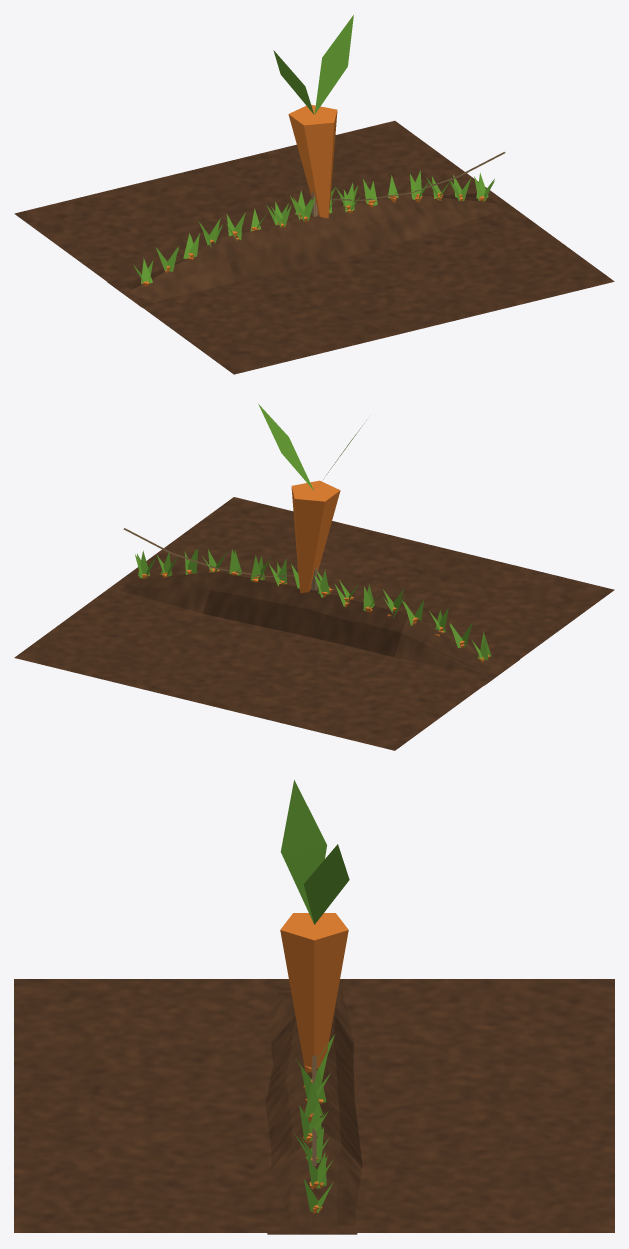
File: garden-kit_LOD1.glb
3 renders of one model, top to bottom at view 1: azimuth 30°, elevation 25°; view 2: azimuth 150°, elevation 25°; view 3: azimuth 270°, elevation 25°, orthographic. The views are drawn at different scales.
Visible parts, largest first — view 1: SOL_LOD1, BUTTE_1_LOD1, MARQUEUR_LOD1, BUTTE_3_LOD1, RANG_STADE_07_VAR_1_LOD1, BUTTE_2_LOD1, RANG_STADE_07_VAR_3_LOD1, RANG_STADE_07_VAR_2_LOD1; view 2: SOL_LOD1, BUTTE_3_LOD1, BUTTE_1_LOD1, MARQUEUR_LOD1, RANG_STADE_07_VAR_3_LOD1, RANG_STADE_07_VAR_1_LOD1, RANG_STADE_07_VAR_2_LOD1, BUTTE_2_LOD1; view 3: SOL_LOD1, MARQUEUR_LOD1, BUTTE_3_LOD1, BUTTE_1_LOD1, BUTTE_2_LOD1, RANG_STADE_07_VAR_2_LOD1, RANG_STADE_07_VAR_1_LOD1, RANG_STADE_07_VAR_3_LOD1.
Part boxes in pixels (<box>): SOL_LOD1: <box>14,120,614,374</box>; BUTTE_1_LOD1: <box>110,193,490,306</box>; MARQUEUR_LOD1: <box>273,15,353,218</box>; BUTTE_3_LOD1: <box>108,193,503,307</box>; RANG_STADE_07_VAR_1_LOD1: <box>134,170,494,280</box>; BUTTE_2_LOD1: <box>107,204,496,295</box>; RANG_STADE_07_VAR_3_LOD1: <box>133,172,488,283</box>; RANG_STADE_07_VAR_2_LOD1: <box>141,173,494,286</box>; SOL_LOD1: <box>14,497,614,750</box>; BUTTE_3_LOD1: <box>120,572,519,660</box>; BUTTE_1_LOD1: <box>121,580,518,677</box>; MARQUEUR_LOD1: <box>258,403,366,593</box>; RANG_STADE_07_VAR_3_LOD1: <box>138,549,484,660</box>; RANG_STADE_07_VAR_1_LOD1: <box>137,550,488,662</box>; RANG_STADE_07_VAR_2_LOD1: <box>135,548,491,658</box>; BUTTE_2_LOD1: <box>361,647,502,685</box>; SOL_LOD1: <box>14,979,614,1232</box>; MARQUEUR_LOD1: <box>280,780,349,1072</box>; BUTTE_3_LOD1: <box>267,986,362,1234</box>; BUTTE_1_LOD1: <box>265,985,357,1234</box>; BUTTE_2_LOD1: <box>270,986,353,1234</box>; RANG_STADE_07_VAR_2_LOD1: <box>294,1043,328,1213</box>; RANG_STADE_07_VAR_1_LOD1: <box>301,1054,333,1213</box>; RANG_STADE_07_VAR_3_LOD1: <box>299,1034,334,1213</box>.
Bounding box in the file's own units: 2.5 × 1.36 × 2.5.
4 materials, 2 textured.
